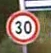limite 30: (4, 9, 40, 44)
